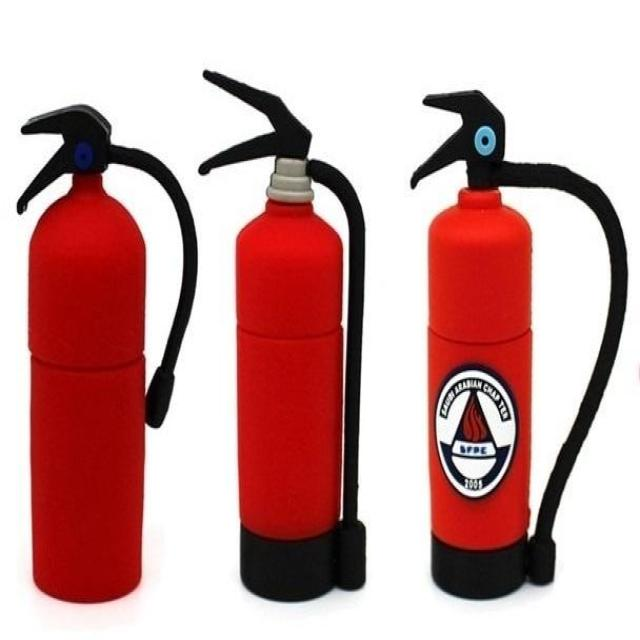fire_extinguisher: (406, 82, 632, 604), (194, 63, 370, 605), (13, 99, 198, 606)
